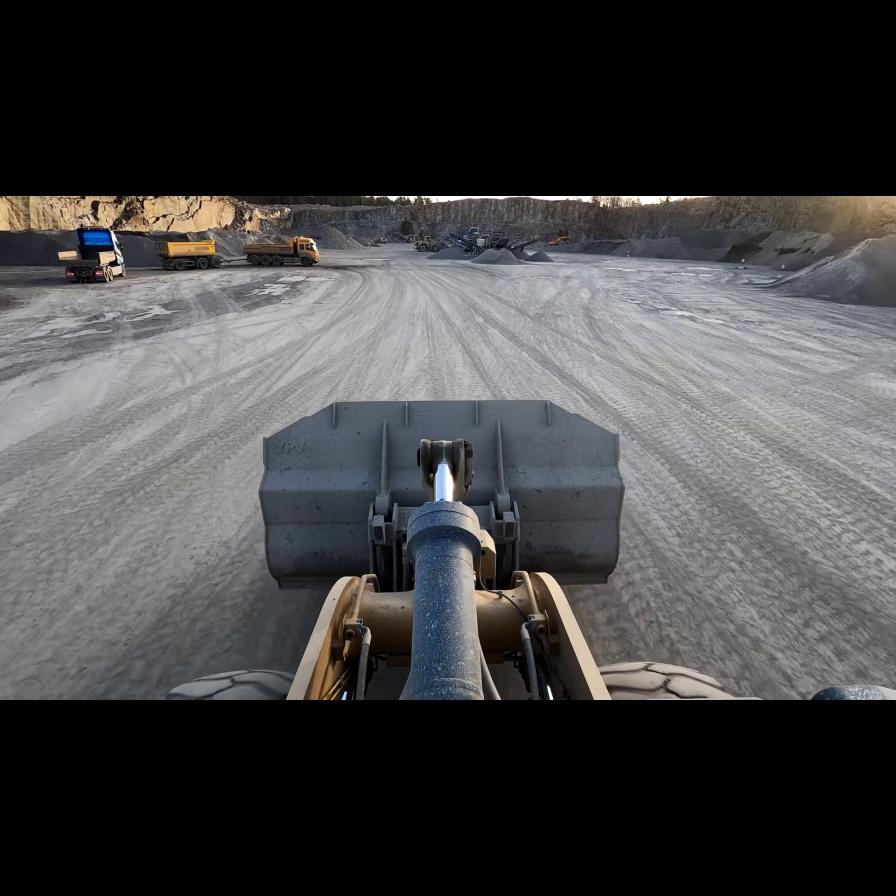anchor: (417, 438, 472, 501)
pile of gravel: (0, 231, 314, 280), (764, 225, 894, 305), (721, 229, 835, 268), (615, 236, 687, 260), (561, 238, 646, 256), (307, 226, 367, 250), (473, 247, 526, 265), (426, 244, 477, 260), (518, 248, 555, 262)
